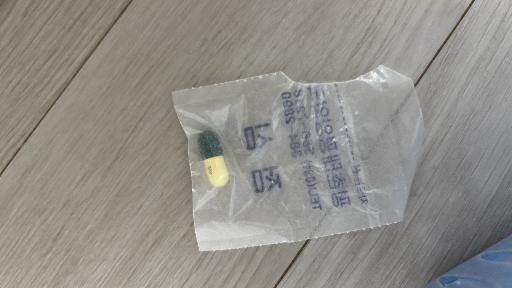Erdoraon: (197, 131, 229, 187)
vinyl: (172, 66, 424, 250)
